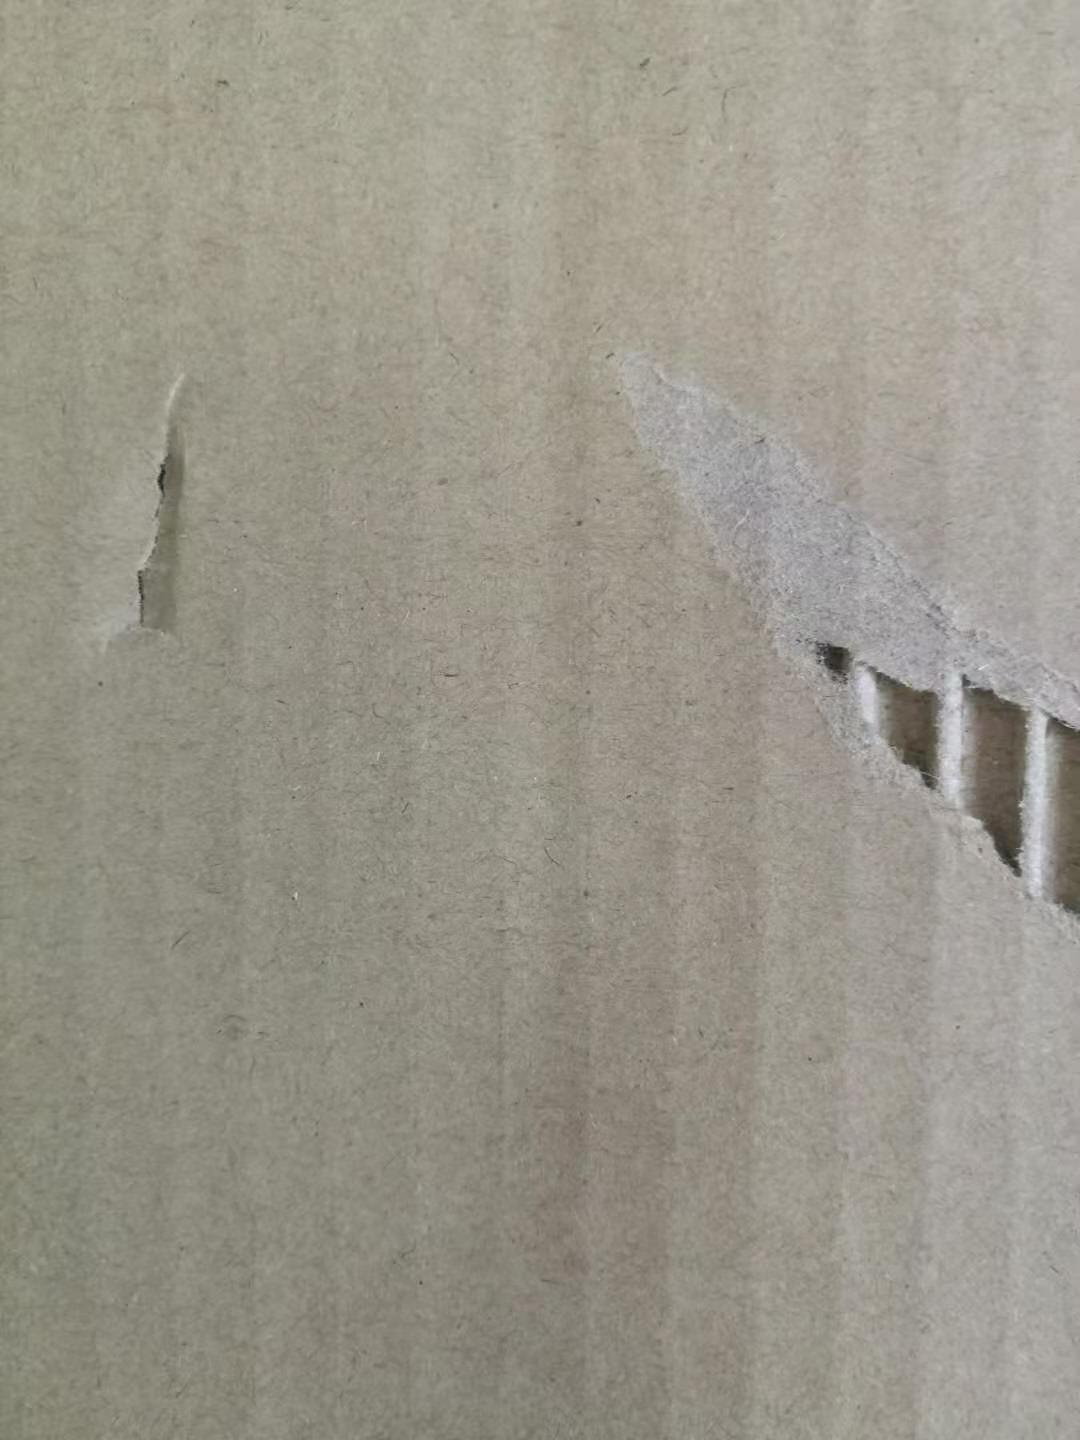defect: (582, 319, 1080, 952), (52, 342, 260, 687)
